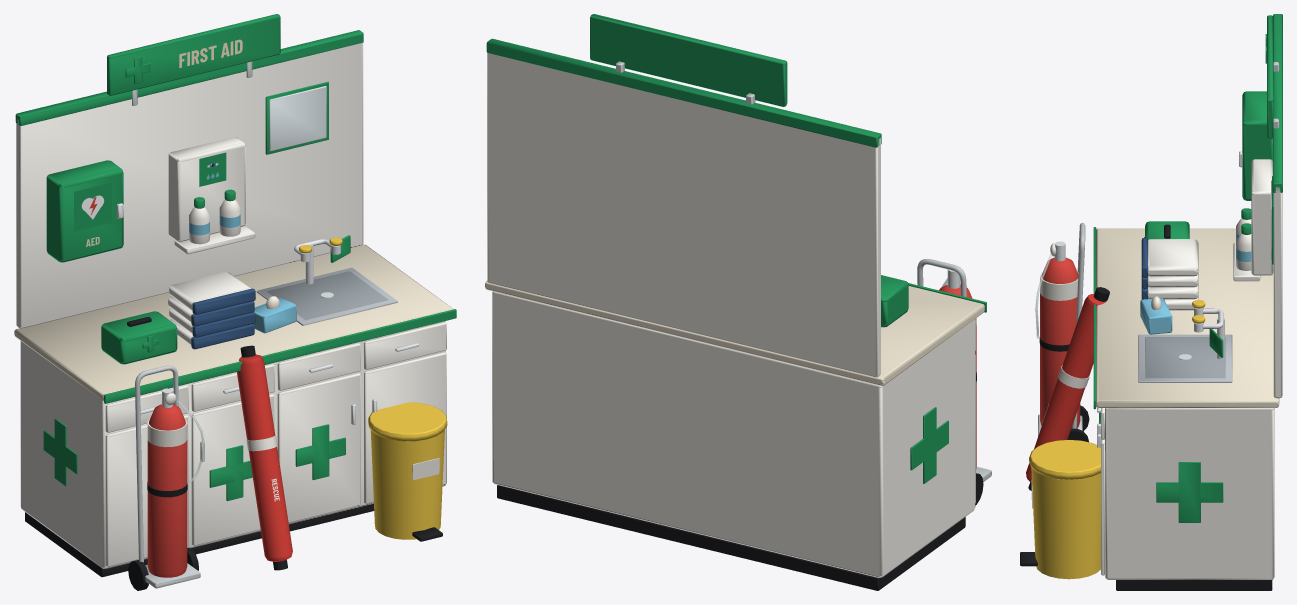
File: first_aid_station.glb
3 views of the same model, side by side, from view 1: azimuth 30°, elevation 25°; view 2: azimuth 150°, elevation 25°; view 3: azimuth 270°, elevation 25° (orthographic). The views are drawn at different scales.
Visible parts, largest first — view 1: FirstAidStationMesh, Door2, Door1, Door0, Door3, DoorCross2, DoorCross; view 2: FirstAidStationMesh; view 3: FirstAidStationMesh, Door3.
Part boxes in pixels (x1,y1,x2,y2): FirstAidStationMesh: (14,14,456,590); Door2: (277,373,360,522); Door1: (191,394,274,545); Door0: (105,415,188,566); Door3: (364,352,446,503); DoorCross2: (295,424,345,480); DoorCross: (209,445,252,501); FirstAidStationMesh: (485,14,991,590); FirstAidStationMesh: (1020,14,1282,590); Door3: (1101,439,1104,575).
Bounding box in the file's own units: 1.84 × 2.23 × 1.18.
Materials: 26 (2 with a texture image).
